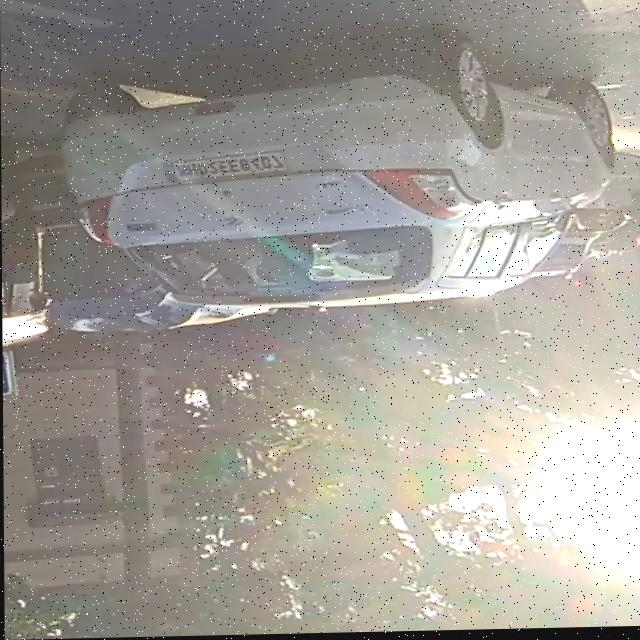plate: (160, 149, 288, 185)
